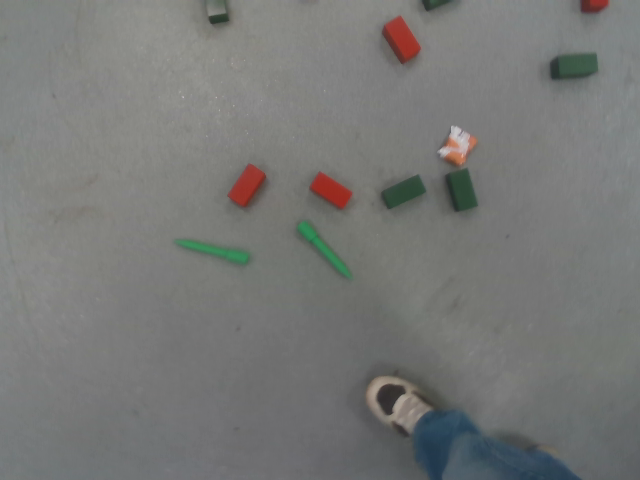Probe: (293, 216, 357, 281), (170, 236, 252, 266)
